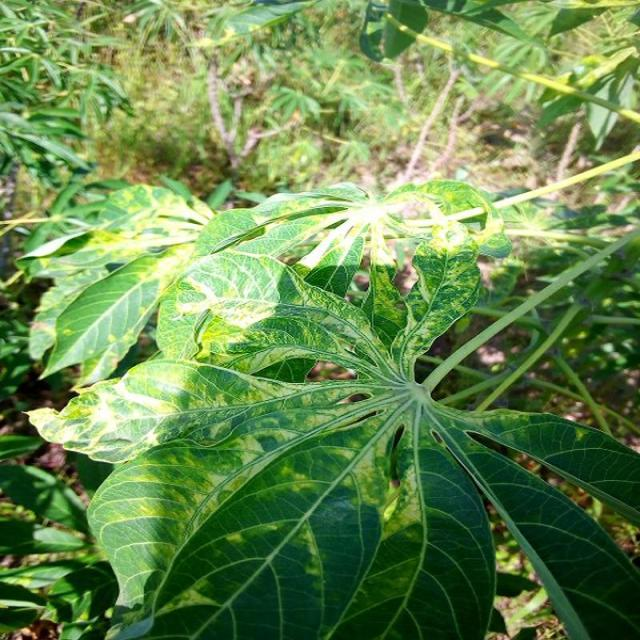cassava leaf: (24, 175, 638, 638)
